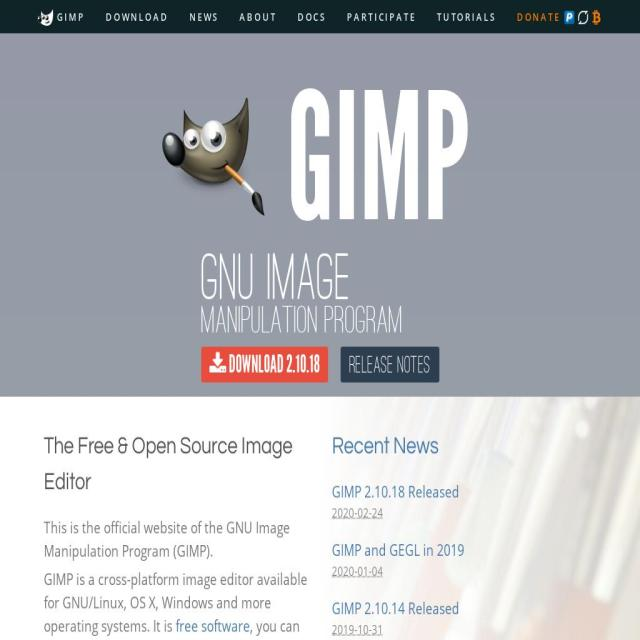button: (328, 346, 329, 346)
heading: (286, 56, 469, 267), (44, 428, 308, 500), (332, 432, 439, 458)
image: (151, 94, 277, 220), (38, 8, 54, 26), (564, 10, 574, 24), (578, 10, 588, 24)
link: (176, 613, 250, 637), (104, 636, 172, 640), (199, 636, 254, 640)
text: (44, 566, 308, 636), (44, 516, 308, 563), (200, 298, 440, 347), (200, 266, 440, 299), (44, 613, 300, 640), (332, 504, 596, 524), (332, 562, 596, 582), (332, 620, 596, 640), (340, 346, 440, 382), (361, 480, 460, 503), (361, 597, 460, 620), (226, 349, 286, 379), (347, 8, 417, 24), (420, 538, 465, 562), (105, 8, 169, 24), (286, 349, 320, 379), (436, 8, 496, 24), (44, 636, 284, 640), (516, 8, 561, 24), (332, 538, 362, 562), (390, 538, 420, 562), (361, 538, 390, 562), (332, 480, 362, 503), (332, 597, 362, 620), (240, 8, 278, 24), (53, 8, 86, 24), (189, 8, 219, 24), (297, 8, 326, 24), (171, 636, 200, 640)
